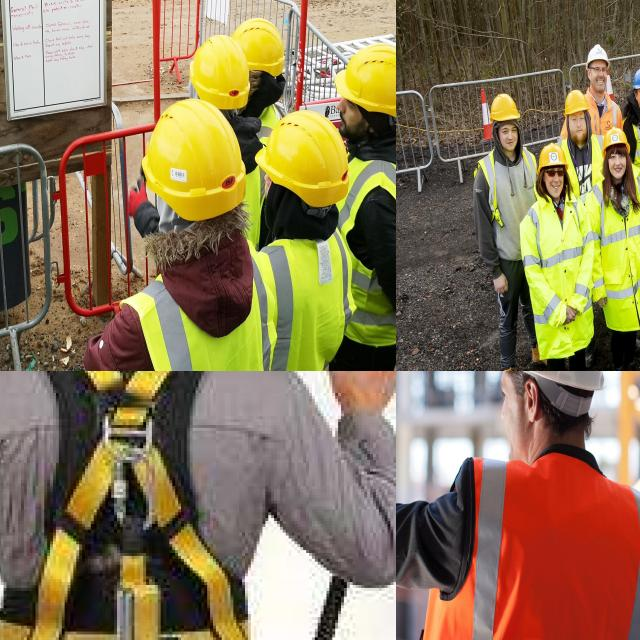Harness: (0, 371, 285, 640)
face_nomask: (473, 371, 562, 474), (497, 126, 522, 162), (606, 150, 630, 183), (546, 168, 570, 199), (592, 63, 607, 97), (570, 117, 586, 148)
glasses: (546, 167, 567, 179), (592, 66, 608, 76)
hand_noglove: (493, 270, 508, 308)
head_helmet: (141, 97, 248, 223), (254, 110, 350, 208), (333, 41, 396, 120), (190, 33, 250, 110), (231, 16, 286, 74), (486, 371, 613, 395), (539, 142, 573, 172), (490, 91, 521, 121), (602, 126, 630, 154), (563, 89, 590, 116), (586, 44, 610, 70), (632, 66, 640, 90)
person: (396, 371, 640, 640), (92, 98, 272, 371), (252, 110, 350, 371), (334, 48, 396, 371), (472, 95, 536, 371), (520, 149, 598, 371), (593, 130, 640, 371), (559, 94, 604, 188), (586, 44, 623, 137), (624, 69, 640, 204)
shoes: (622, 355, 640, 371), (608, 359, 629, 371)
vest: (419, 458, 640, 640), (135, 238, 262, 371), (261, 223, 356, 371), (342, 147, 396, 341), (519, 196, 595, 319), (589, 178, 640, 301), (586, 89, 624, 138), (625, 105, 640, 186)
